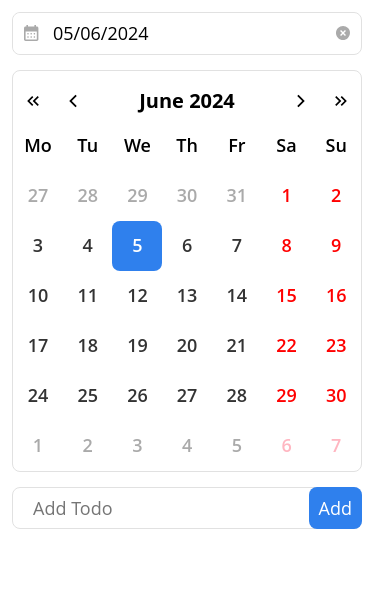
Scenario: TodoPicker › adds new todo when clicking add
Type "Make unit tests" into the field with test id "todo-input".
click(187, 508); type("Make unit tests")  # box [12,487,362,529]
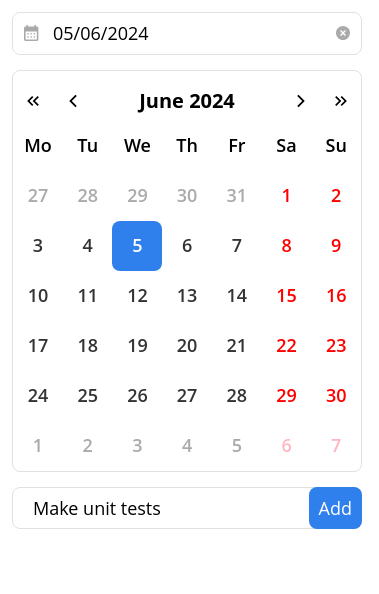
Click the button with test id "todo-add".
click(335, 508)  # box [308,487,362,529]
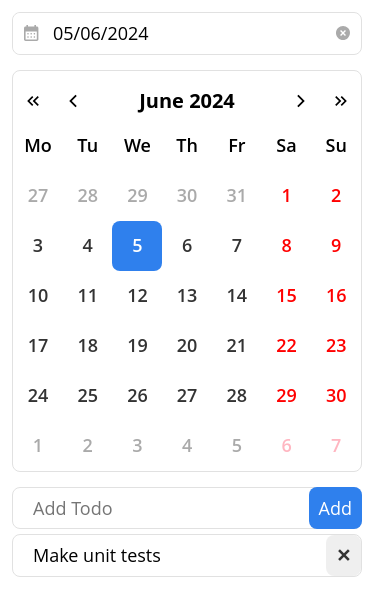
Expected: the text "Make unit tests" is shown, [33,543,161,567]
